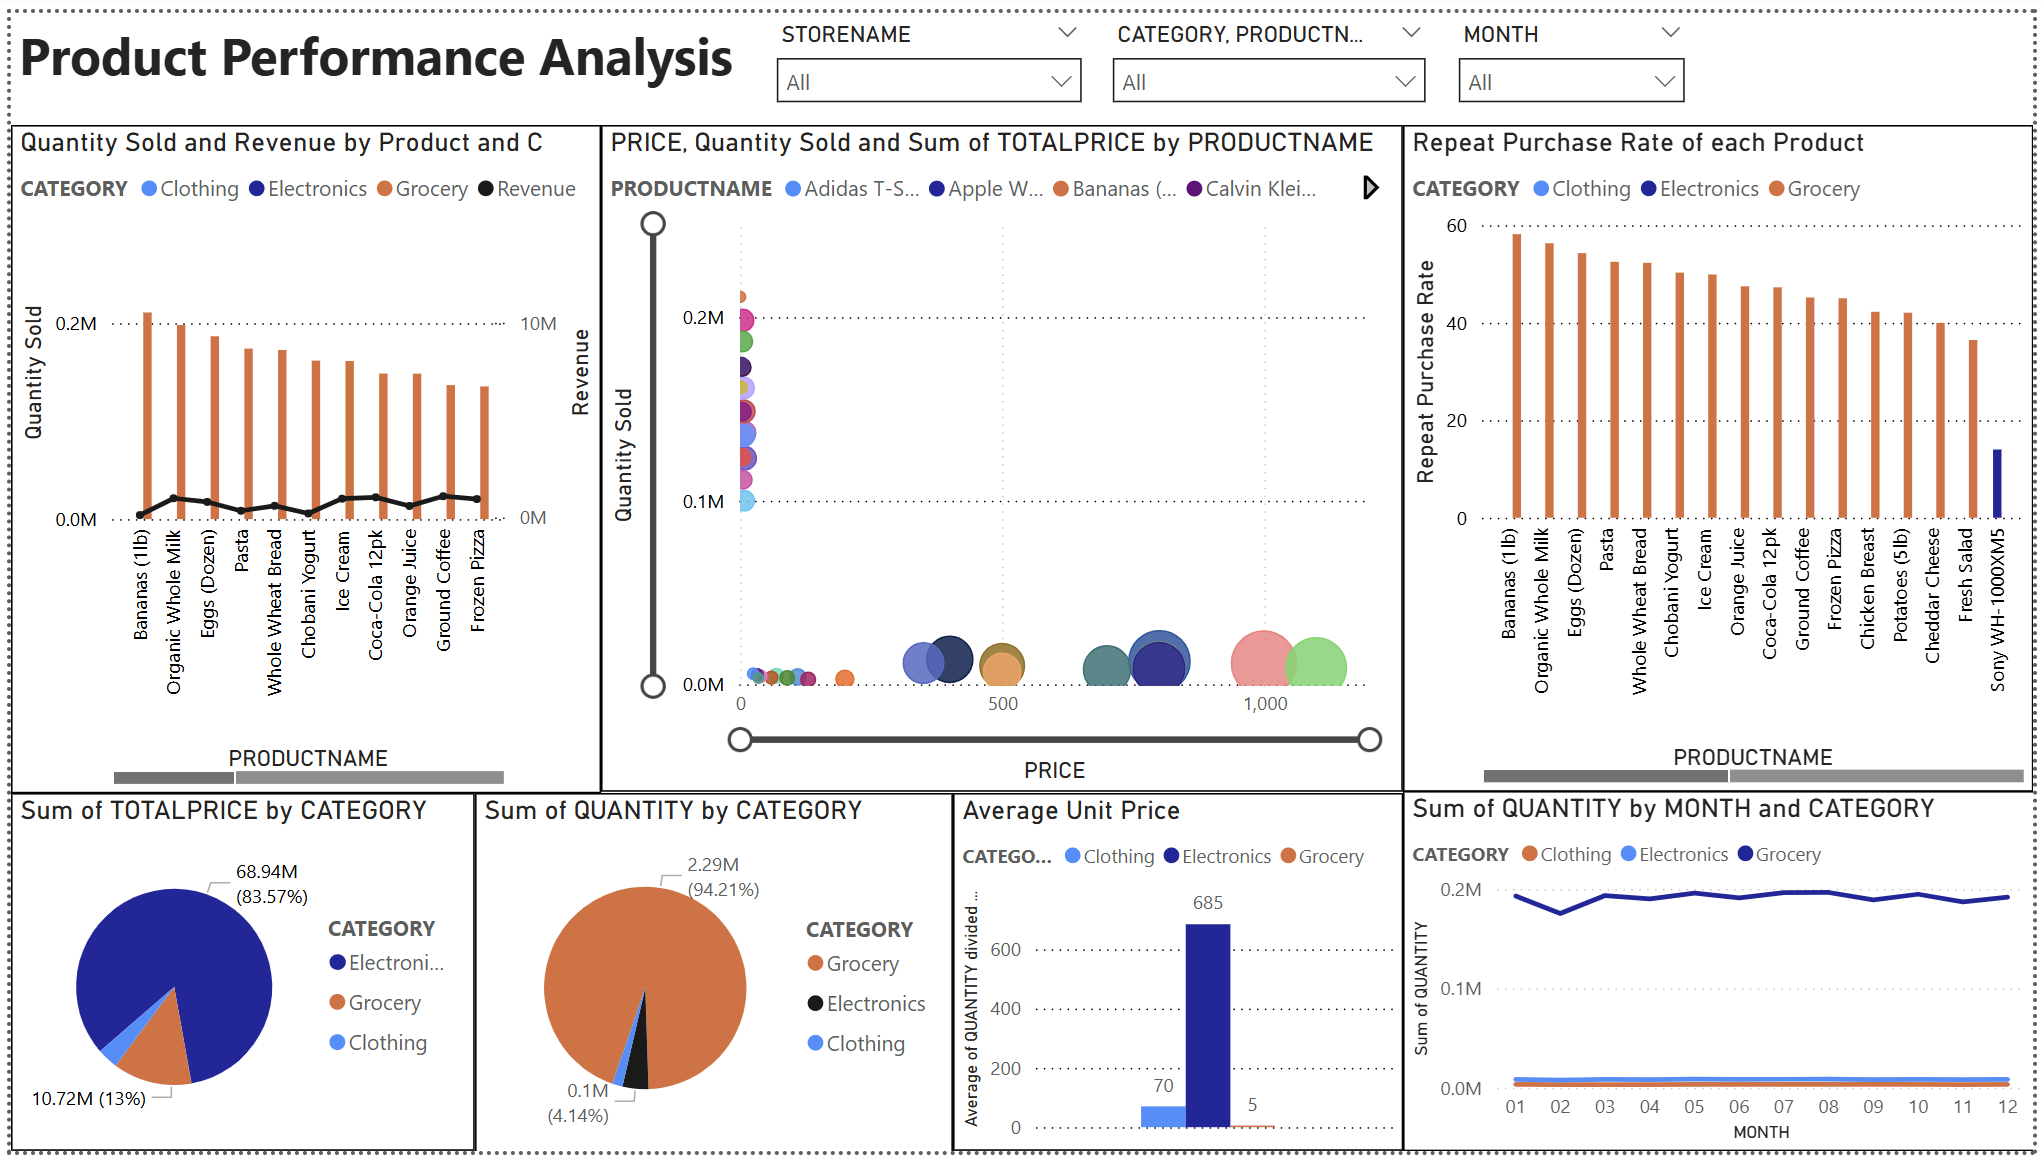

This screenshot's page, from the dashboard's own definition file:
{"tool":"powerbi","page":{"name":"Product Performance Analysis","canvas":[1280,720],"ordinal":2},"visuals":[{"type":"lineClusteredColumnComboChart","title":"Quantity Sold and Revenue by Product and  C","fields":{"Category":["PRODUCTS.PRODUCTNAME"],"Y":["Sum(TRANSACTIONS.QUANTITY)"],"Y2":["Sum(TRANSACTIONS.TOTALPRICE)"],"Series":["PRODUCTS.CATEGORY"]},"box":[0,70.9,373.4,422.8],"z":0},{"type":"pieChart","fields":{"Category":["PRODUCTS.CATEGORY"],"Y":["Sum(TRANSACTIONS.QUANTITY)"]},"box":[293.7,493.7,302.5,227.8],"z":1000},{"type":"scatterChart","fields":{"X":["Sum(PRODUCTS.PRICE)"],"Size":["Sum(TRANSACTIONS.TOTALPRICE)"],"Series":["PRODUCTS.PRODUCTNAME"],"Y":["Sum(TRANSACTIONS.QUANTITY)"]},"box":[373.5,71.4,507.4,422],"z":2000},{"type":"pieChart","fields":{"Category":["PRODUCTS.CATEGORY"],"Y":["Sum(TRANSACTIONS.TOTALPRICE)"]},"box":[0,493.7,293.7,226.6],"z":3000},{"type":"textbox","box":[0,0,474.1,55.2],"z":4000},{"type":"slicer","fields":{"Values":["PRODUCTS.CATEGORY","PRODUCTS.PRODUCTNAME"]},"box":[687.2,0,218,70.1],"z":5000},{"type":"slicer","fields":{"Values":["STORES.STORENAME"]},"box":[474.3,0,212.9,70.1],"z":6000},{"type":"clusteredColumnChart","title":"Average Unit Price","fields":{"Y":["CATEGORY_SHARE.Average of QUANTITY divided by Average of TOTALPRICE"],"Series":["PRODUCT_ANALYSIS_1.CATEGORY"]},"box":[596.2,493.7,284.8,226.6],"z":7000},{"type":"clusteredColumnChart","title":"Repeat Purchase Rate of each Product","fields":{"Y":["CATEGORY_SHARE.Repeat Purchase Rate"],"Category":["PRODUCTS.PRODUCTNAME"],"Series":["PRODUCTS.CATEGORY"]},"box":[881,71.4,399,422],"z":8000},{"type":"slicer","fields":{"Values":["TRANSACTIONS.MONTH"]},"box":[906.5,0,163.2,70.1],"z":9000},{"type":"lineChart","fields":{"Category":["TRANSACTIONS.MONTH"],"Y":["Sum(TRANSACTIONS.QUANTITY)"],"Series":["PRODUCTS.CATEGORY"]},"box":[881,492.4,400,227.8],"z":10000}]}

Visuals, with their boxes in screenshot pixels (x1, y1, x2, y2), scaled from the page's 1280x720 canvas onto the 2042x1156 screenshot:
"Quantity Sold and Revenue by Product and  C" lineClusteredColumnComboChart: 0:114:596:793
pieChart - PRODUCTS.CATEGORY x Sum(TRANSACTIONS.QUANTITY): 469:793:951:1155
scatterChart - Sum(PRODUCTS.PRICE) x Sum(TRANSACTIONS.TOTALPRICE): 596:115:1405:792
pieChart - PRODUCTS.CATEGORY x Sum(TRANSACTIONS.TOTALPRICE): 0:793:469:1155
textbox: 0:0:756:89
slicer - PRODUCTS.CATEGORY x PRODUCTS.PRODUCTNAME: 1096:0:1444:113
slicer - STORES.STORENAME: 757:0:1096:113
"Average Unit Price" clusteredColumnChart: 951:793:1405:1155
"Repeat Purchase Rate of each Product" clusteredColumnChart: 1405:115:2041:792
slicer - TRANSACTIONS.MONTH: 1446:0:1707:113
lineChart - TRANSACTIONS.MONTH x Sum(TRANSACTIONS.QUANTITY): 1405:791:2041:1155
